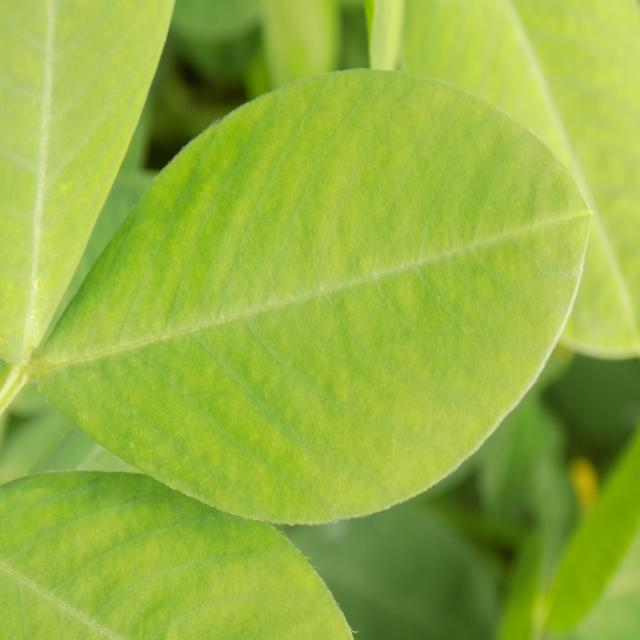Ground nut_healthy: (30, 68, 588, 526)
